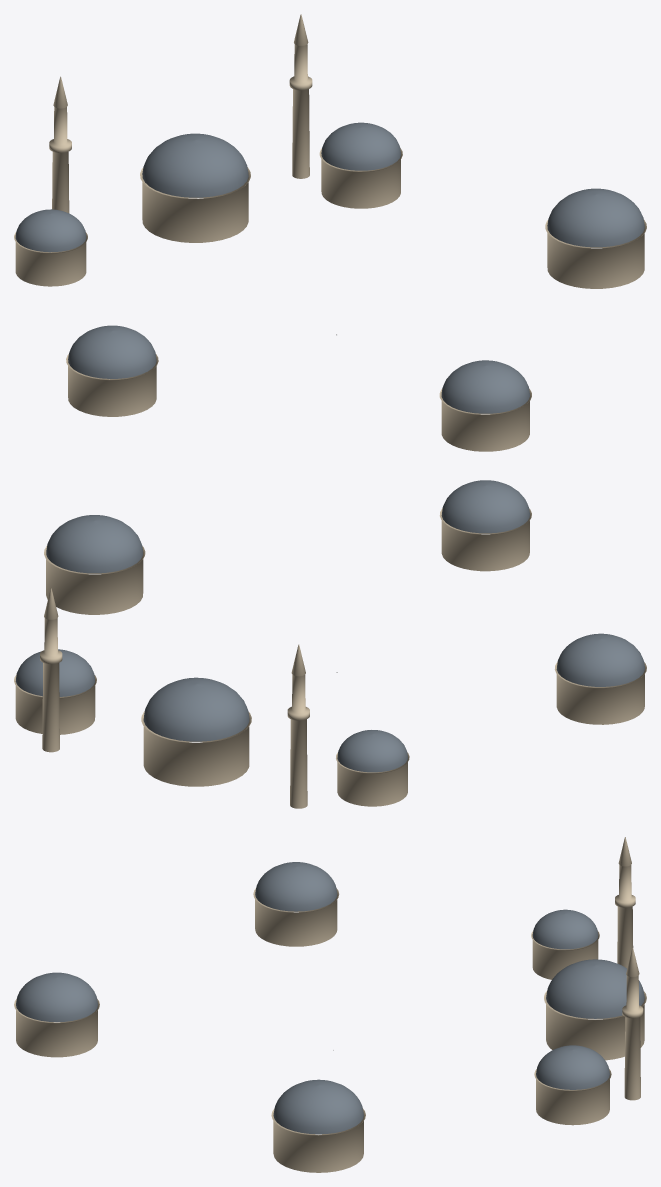
The model's file is gobek_cevre.glb.
3 renders of one model, top to bottom at view 1: azimuth 30°, elevation 25°; view 2: azimuth 150°, elevation 25°; view 3: azimuth 270°, elevation 25°, orthographic. The views are drawn at different scales.
Parts seen in each view (by area): view 1: K_kubbe0, K_kub0, K_kubbe4, K_kub4, K_kubbe5, K_kubbe3, K_kub5, K_kub3, K_kub2, K_kubbe2, K_minare1, K_kub1 (+2 smaller); view 2: K_kubbe0, K_kub0, K_kubbe4, K_kub4, K_kubbe5, K_kubbe3, K_kub3, K_kub5, K_minare0, K_minare1, K_kub2, K_kub1 (+2 smaller); view 3: K_kubbe0, K_kubbe4, K_kub4, K_kubbe3, K_kubbe5, K_kub0, K_kub3, K_kub5, K_kub2, K_kubbe2, K_minare1, K_kubbe1 (+2 smaller).
Boxes of the visible parts, box(x1,y1,x2,y2) form: K_kubbe0: box(142, 133, 248, 197); K_kub0: box(140, 167, 250, 242); K_kubbe4: box(547, 188, 644, 247); K_kub4: box(545, 220, 646, 288); K_kubbe5: box(441, 360, 529, 413); K_kubbe3: box(68, 325, 156, 378); K_kub5: box(439, 389, 531, 451); K_kub3: box(66, 354, 158, 416); K_kub2: box(319, 148, 402, 208); K_kubbe2: box(321, 122, 400, 170); K_minare1: box(289, 14, 312, 178); K_kub1: box(14, 232, 87, 286); K_kubbe0: box(143, 677, 249, 741); K_kub0: box(141, 711, 251, 786); K_kubbe4: box(46, 515, 143, 573); K_kub4: box(44, 546, 145, 614); K_kubbe5: box(441, 480, 529, 533); K_kubbe3: box(556, 633, 644, 686); K_kub3: box(554, 662, 646, 724); K_kub5: box(439, 508, 531, 571); K_minare0: box(287, 644, 309, 808); K_minare1: box(40, 588, 62, 752); K_kub2: box(14, 674, 96, 734); K_kub1: box(336, 752, 409, 806); K_kubbe0: box(546, 959, 644, 1018); K_kubbe4: box(273, 1079, 363, 1134); K_kub4: box(271, 1108, 365, 1172); K_kubbe3: box(255, 862, 337, 911); K_kubbe5: box(16, 972, 97, 1021); K_kub0: box(544, 990, 646, 1060); K_kub3: box(253, 888, 339, 946); K_kub5: box(14, 999, 99, 1057); K_kub2: box(534, 1069, 611, 1125); K_kubbe2: box(536, 1045, 609, 1089); K_minare1: box(622, 947, 643, 1100); K_kubbe1: box(532, 909, 598, 949).
Size of what is drawn, in the model's own units: 166 by 47.1 by 169.
